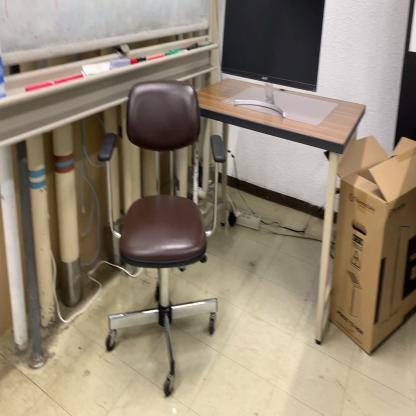chair: (97, 79, 229, 400)
